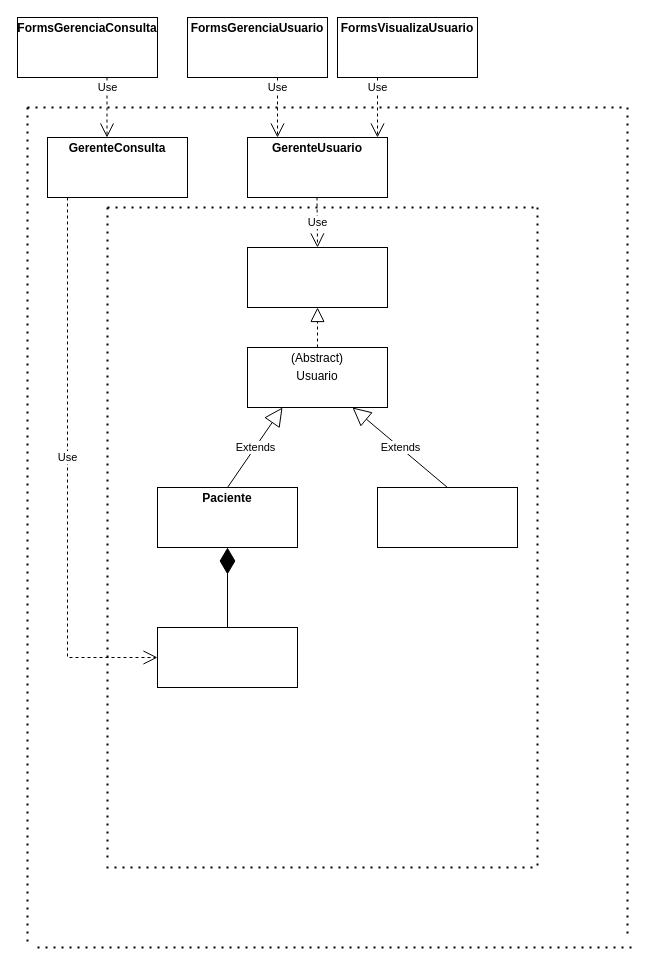
Image size: 657x967. Some labels were removed from this diagram. The shapes that lost their labels are listed below. From the top down, each one's box as (x1, y1, x2, y2) in pixels, then its label:
(246, 246, 388, 308): «interface» IntefaceUsario
(376, 486, 518, 548): Medico
(156, 626, 298, 688): Consulta
